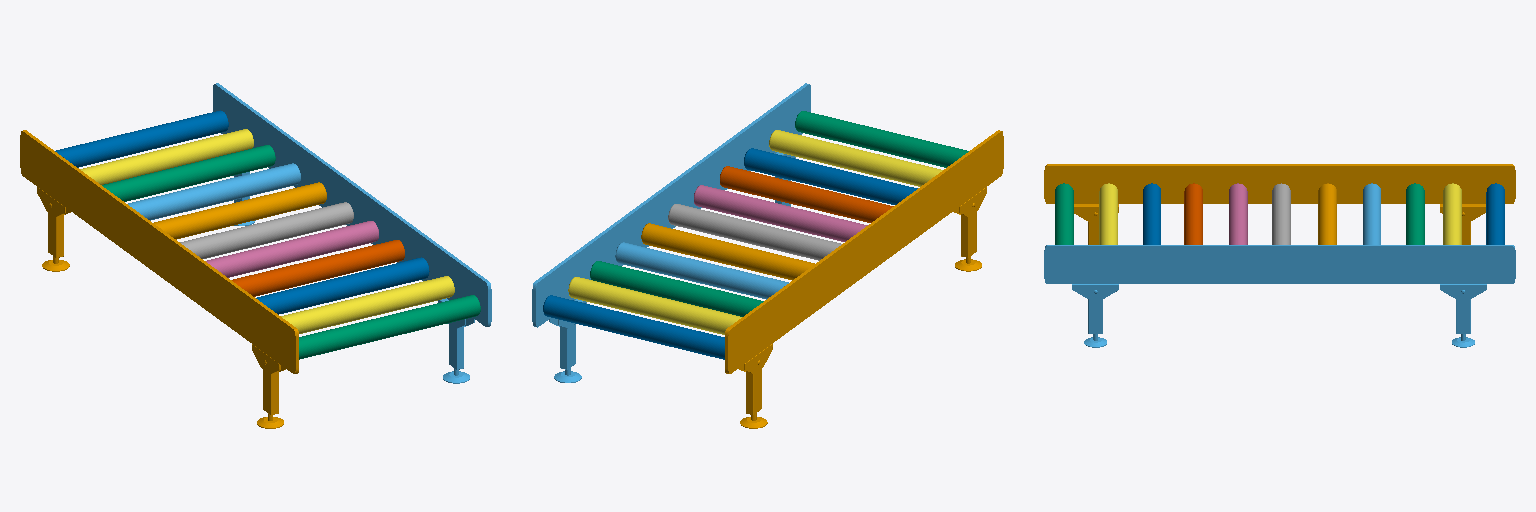
robot.urdf — conveyor:
<?xml version="0.0" ?>
<robot name="conveyor">
  <link name="frame">
    <inertial>
       <origin rpy="0 0 0" xyz="0 0 0"/>
       <mass value="5"/>
       <inertia ixx="0" ixy="0" ixz="0" iyy="0" iyz="0" izz="0"/>
    </inertial>

    <visual>
      <origin rpy="0 0 0" xyz="0 0 0"/>
      <geometry>
        <mesh filename="frame-left.obj" scale="1 1 1"/>
      </geometry>
    </visual>
    
    <collision>
      <origin rpy="0 0 0" xyz="0 0 0"/>
      <geometry>
        <mesh filename="frame-left.obj" scale="1 1 1"/>
      </geometry>
    </collision>

  </link>
    <link name="frame-right">
    <inertial>
       <origin rpy="0 0 0" xyz="0 0 0"/>
       <mass value="5"/>
       <inertia ixx="0" ixy="0" ixz="0" iyy="0" iyz="0" izz="0"/>
    </inertial>

    <visual>
      <origin rpy="0 0 0" xyz="0 0 0"/>
      <geometry>
        <mesh filename="frame-right.obj" scale="1 1 1"/>
      </geometry>
    </visual>
    
    <collision>
      <origin rpy="0 0 0" xyz="0 0 0"/>
      <geometry>
        <mesh filename="frame-right.obj" scale="1 1 1"/>
      </geometry>
    </collision>
  </link>

  <joint name="joint" type="fixed">
    <origin rpy="0 0 0" xyz="0 0 0"/>
    <parent link="frame"/>
    <child link="frame-right"/>
    <axis xyz="0 0 0"/>
  </joint>

  <link name="roller0">
    <inertial>
       <origin rpy="0 0 0" xyz="0 0 0"/>
       <mass value=".1"/>
       <inertia ixx="0" ixy="0" ixz="0" iyy="0" iyz="0" izz="0"/>
    </inertial>

    <visual>
      <origin rpy="0 0 0" xyz="0 0 0"/>
      <geometry>
        <mesh filename="roller.obj" scale="1 1 1"/>
      </geometry>
    </visual>
    
    <collision>
      <origin rpy="0 0 0" xyz="0 0 0"/>
      <geometry>
        <mesh filename="roller.obj" scale="1 1 1"/>
      </geometry>
    </collision>
  </link>

  <joint name="joint0" type="continuous">
    <origin rpy="0 0 0" xyz="-0.002681 -0.430065 0.161724"/>
    <parent link="frame"/>
    <child link="roller0"/>
    <axis xyz="-1 0 0"/>
  </joint>

  <link name="roller1">
    <inertial>
       <origin rpy="0 0 0" xyz="0 0 0"/>
       <mass value=".1"/>
       <inertia ixx="0" ixy="0" ixz="0" iyy="0" iyz="0" izz="0"/>
    </inertial>

    <visual>
      <origin rpy="0 0 0" xyz="0 0 0"/>
      <geometry>
        <mesh filename="roller.obj" scale="1 1 1"/>
      </geometry>
    </visual>
    
    <collision>
      <origin rpy="0 0 0" xyz="0 0 0"/>
      <geometry>
        <mesh filename="roller.obj" scale="1 1 1"/>
      </geometry>
    </collision>
  </link>

  <joint name="joint1" type="continuous">
    <origin rpy="0 0 0" xyz="-0.002681 -0.342194 0.161724"/>
    <parent link="frame"/>
    <child link="roller1"/>
    <axis xyz="-1 0 0"/>
  </joint>

  <link name="roller2">
    <inertial>
       <origin rpy="0 0 0" xyz="0 0 0"/>
       <mass value=".1"/>
       <inertia ixx="0" ixy="0" ixz="0" iyy="0" iyz="0" izz="0"/>
    </inertial>

    <visual>
      <origin rpy="0 0 0" xyz="0 0 0"/>
      <geometry>
        <mesh filename="roller.obj" scale="1 1 1"/>
      </geometry>
    </visual>
    
    <collision>
      <origin rpy="0 0 0" xyz="0 0 0"/>
      <geometry>
        <mesh filename="roller.obj" scale="1 1 1"/>
      </geometry>
    </collision>
  </link>

  <joint name="joint2" type="continuous">
    <origin rpy="0 0 0" xyz="-0.002681 -0.256547 0.161724"/>
    <parent link="frame"/>
    <child link="roller2"/>
    <axis xyz="-1 0 0"/>
  </joint>

  <link name="roller3">
    <inertial>
       <origin rpy="0 0 0" xyz="0 0 0"/>
       <mass value=".1"/>
       <inertia ixx="0" ixy="0" ixz="0" iyy="0" iyz="0" izz="0"/>
    </inertial>

    <visual>
      <origin rpy="0 0 0" xyz="0 0 0"/>
      <geometry>
        <mesh filename="roller.obj" scale="1 1 1"/>
      </geometry>
    </visual>
    
    <collision>
      <origin rpy="0 0 0" xyz="0 0 0"/>
      <geometry>
        <mesh filename="roller.obj" scale="1 1 1"/>
      </geometry>
    </collision>
  </link>

  <joint name="joint3" type="continuous">
    <origin rpy="0 0 0" xyz="-0.002681 -0.174238 0.161724"/>
    <parent link="frame"/>
    <child link="roller3"/>
    <axis xyz="-1 0 0"/>
  </joint>

  <link name="roller4">
    <inertial>
       <origin rpy="0 0 0" xyz="0 0 0"/>
       <mass value=".1"/>
       <inertia ixx="0" ixy="0" ixz="0" iyy="0" iyz="0" izz="0"/>
    </inertial>

    <visual>
      <origin rpy="0 0 0" xyz="0 0 0"/>
      <geometry>
        <mesh filename="roller.obj" scale="1 1 1"/>
      </geometry>
    </visual>
    
    <collision>
      <origin rpy="0 0 0" xyz="0 0 0"/>
      <geometry>
        <mesh filename="roller.obj" scale="1 1 1"/>
      </geometry>
    </collision>
  </link>

  <joint name="joint4" type="continuous">
    <origin rpy="0 0 0" xyz="-0.002681 -0.086366 0.161724"/>
    <parent link="frame"/>
    <child link="roller4"/>
    <axis xyz="-1 0 0"/>
  </joint>

  <link name="roller5">
    <inertial>
       <origin rpy="0 0 0" xyz="0 0 0"/>
       <mass value=".1"/>
       <inertia ixx="0" ixy="0" ixz="0" iyy="0" iyz="0" izz="0"/>
    </inertial>

    <visual>
      <origin rpy="0 0 0" xyz="0 0 0"/>
      <geometry>
        <mesh filename="roller.obj" scale="1 1 1"/>
      </geometry>
    </visual>
    
    <collision>
      <origin rpy="0 0 0" xyz="0 0 0"/>
      <geometry>
        <mesh filename="roller.obj" scale="1 1 1"/>
      </geometry>
    </collision>
  </link>

  <joint name="joint5" type="continuous">
    <origin rpy="0 0 0" xyz="-0.002681 -0.00072 0.161724"/>
    <parent link="frame"/>
    <child link="roller5"/>
    <axis xyz="-1 0 0"/>
  </joint>

  <link name="roller6">
    <inertial>
       <origin rpy="0 0 0" xyz="0 0 0"/>
       <mass value=".1"/>
       <inertia ixx="0" ixy="0" ixz="0" iyy="0" iyz="0" izz="0"/>
    </inertial>

    <visual>
      <origin rpy="0 0 0" xyz="0 0 0"/>
      <geometry>
        <mesh filename="roller.obj" scale="1 1 1"/>
      </geometry>
    </visual>
    
    <collision>
      <origin rpy="0 0 0" xyz="0 0 0"/>
      <geometry>
        <mesh filename="roller.obj" scale="1 1 1"/>
      </geometry>
    </collision>
  </link>

  <joint name="joint6" type="continuous">
    <origin rpy="0 0 0" xyz="-0.002681 0.090488 0.161724"/>
    <parent link="frame"/>
    <child link="roller6"/>
    <axis xyz="-1 0 0"/>
  </joint>

  <link name="roller7">
    <inertial>
       <origin rpy="0 0 0" xyz="0 0 0"/>
       <mass value=".1"/>
       <inertia ixx="0" ixy="0" ixz="0" iyy="0" iyz="0" izz="0"/>
    </inertial>

    <visual>
      <origin rpy="0 0 0" xyz="0 0 0"/>
      <geometry>
        <mesh filename="roller.obj" scale="1 1 1"/>
      </geometry>
    </visual>
    
    <collision>
      <origin rpy="0 0 0" xyz="0 0 0"/>
      <geometry>
        <mesh filename="roller.obj" scale="1 1 1"/>
      </geometry>
    </collision>
  </link>

  <joint name="joint7" type="continuous">
    <origin rpy="0 0 0" xyz="-0.002681 0.178359 0.161724"/>
    <parent link="frame"/>
    <child link="roller7"/>
    <axis xyz="-1 0 0"/>
  </joint>

  <link name="roller8">
    <inertial>
       <origin rpy="0 0 0" xyz="0 0 0"/>
       <mass value=".1"/>
       <inertia ixx="0" ixy="0" ixz="0" iyy="0" iyz="0" izz="0"/>
    </inertial>

    <visual>
      <origin rpy="0 0 0" xyz="0 0 0"/>
      <geometry>
        <mesh filename="roller.obj" scale="1 1 1"/>
      </geometry>
    </visual>
    
    <collision>
      <origin rpy="0 0 0" xyz="0 0 0"/>
      <geometry>
        <mesh filename="roller.obj" scale="1 1 1"/>
      </geometry>
    </collision>
  </link>

  <joint name="joint8" type="continuous">
    <origin rpy="0 0 0" xyz="-0.002681 0.264006 0.161724"/>
    <parent link="frame"/>
    <child link="roller8"/>
    <axis xyz="-1 0 0"/>
  </joint>

  <link name="roller9">
    <inertial>
       <origin rpy="0 0 0" xyz="0 0 0"/>
       <mass value=".1"/>
       <inertia ixx="0" ixy="0" ixz="0" iyy="0" iyz="0" izz="0"/>
    </inertial>

    <visual>
      <origin rpy="0 0 0" xyz="0 0 0"/>
      <geometry>
        <mesh filename="roller.obj" scale="1 1 1"/>
      </geometry>
    </visual>
    
    <collision>
      <origin rpy="0 0 0" xyz="0 0 0"/>
      <geometry>
        <mesh filename="roller.obj" scale="1 1 1"/>
      </geometry>
    </collision>
  </link>

  <joint name="joint9" type="continuous">
    <origin rpy="0 0 0" xyz="-0.002681 0.337417 0.161724"/>
    <parent link="frame"/>
    <child link="roller9"/>
    <axis xyz="-1 0 0"/>
  </joint>

  <link name="roller10">
    <inertial>
       <origin rpy="0 0 0" xyz="0 0 0"/>
       <mass value=".1"/>
       <inertia ixx="0" ixy="0" ixz="0" iyy="0" iyz="0" izz="0"/>
    </inertial>

    <visual>
      <origin rpy="0 0 0" xyz="0 0 0"/>
      <geometry>
        <mesh filename="roller.obj" scale="1 1 1"/>
      </geometry>
    </visual>
    
    <collision>
      <origin rpy="0 0 0" xyz="0 0 0"/>
      <geometry>
        <mesh filename="roller.obj" scale="1 1 1"/>
      </geometry>
    </collision>
  </link>

  <joint name="joint10" type="continuous">
    <origin rpy="0 0 0" xyz="-0.002681 0.423063 0.161724"/>
    <parent link="frame"/>
    <child link="roller10"/>
    <axis xyz="-1 0 0"/>
  </joint>
</robot>

--- Render facts (derived) ---
Views: 3 orthographic renders of the robot side by side, from view 1: azimuth 30°, elevation 25°; view 2: azimuth 150°, elevation 25°; view 3: azimuth 270°, elevation 25°.
Robot: conveyor — 13 links, 12 joints (11 continuous, 1 fixed); root link frame; default pose: every joint at zero.
Links seen in each view (by area): view 1: frame, frame-right, roller0, roller1, roller5, roller6, roller7, roller8, roller10, roller3, roller4, roller2 (+1 smaller); view 2: frame, frame-right, roller10, roller9, roller2, roller1, roller6, roller0, roller4, roller5, roller7, roller3 (+1 smaller); view 3: frame-right, frame, roller8, roller0, roller6, roller9, roller1, roller3, roller4, roller5, roller10, roller2 (+1 smaller).
Link boxes in pixels (<box>): frame: <box>20,130,298,428</box>; frame-right: <box>213,83,491,383</box>; roller0: <box>299,295,480,359</box>; roller1: <box>281,276,454,333</box>; roller5: <box>180,202,353,258</box>; roller6: <box>154,182,326,239</box>; roller7: <box>128,163,300,220</box>; roller8: <box>102,145,275,201</box>; roller10: <box>55,110,228,167</box>; roller3: <box>232,240,404,296</box>; roller4: <box>206,221,378,277</box>; roller2: <box>256,257,429,314</box>; frame: <box>725,130,1003,428</box>; frame-right: <box>532,83,810,382</box>; roller10: <box>543,295,724,359</box>; roller9: <box>568,277,741,334</box>; roller2: <box>744,148,917,204</box>; roller1: <box>769,130,942,186</box>; roller6: <box>641,223,814,280</box>; roller0: <box>795,111,968,167</box>; roller4: <box>694,185,867,241</box>; roller5: <box>668,204,841,260</box>; roller7: <box>615,242,788,299</box>; roller3: <box>720,166,893,222</box>; frame-right: <box>1044,245,1515,347</box>; frame: <box>1044,164,1515,244</box>; roller8: <box>1406,183,1424,244</box>; roller0: <box>1055,183,1073,244</box>; roller6: <box>1318,183,1336,244</box>; roller9: <box>1443,183,1461,244</box>; roller1: <box>1099,183,1117,244</box>; roller3: <box>1184,183,1202,244</box>; roller4: <box>1229,183,1247,244</box>; roller5: <box>1272,183,1290,244</box>; roller10: <box>1486,183,1504,244</box>; roller2: <box>1143,183,1160,244</box>.
Bounding box of the posed robot: 0.4098 × 0.9311 × 0.2156 m (x, y, z).
Meshes: 3 distinct files referenced, 13 mesh visuals loaded (3 OBJ).
